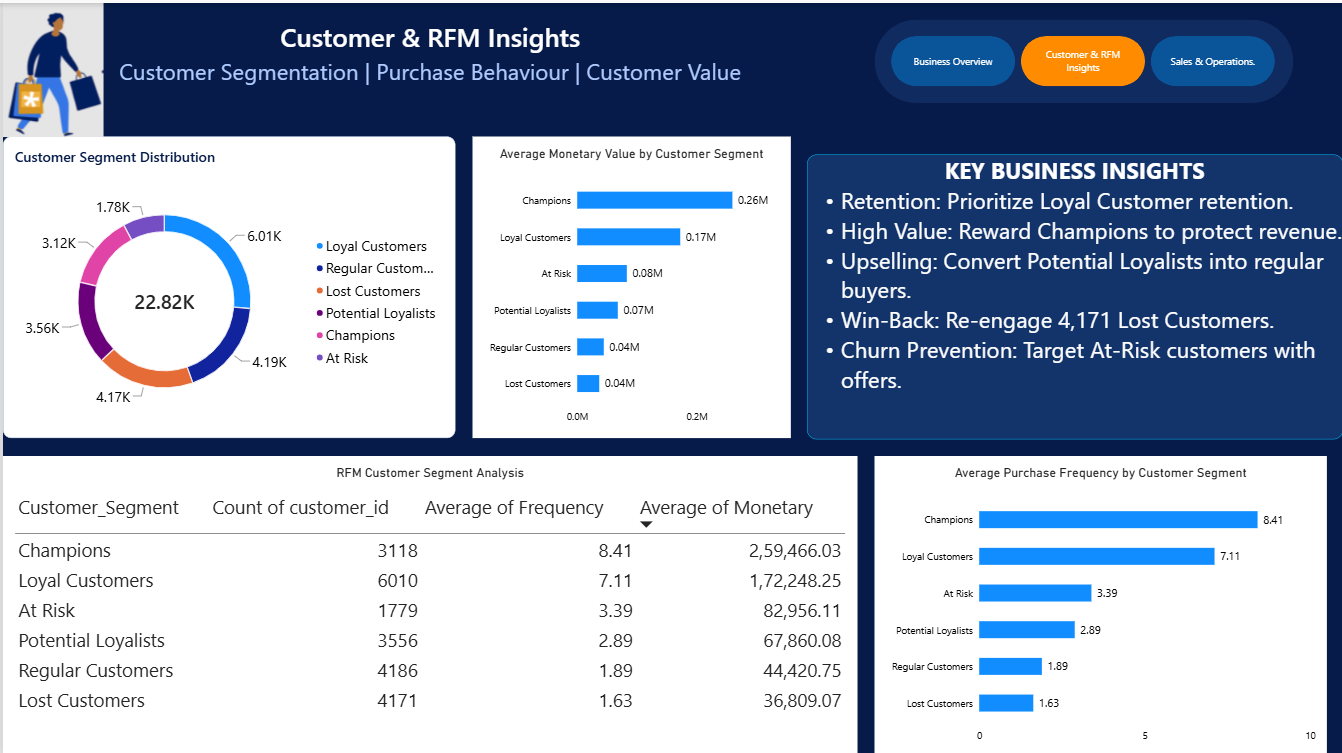

The page's visual inventory and layout, read from the dashboard file:
{"tool":"powerbi","page":{"name":"Customer & RFM Insights","canvas":[1920,1080],"ordinal":1},"visuals":[{"type":"donutChart","title":"Customer Segment Distribution","fields":{"Category":["rfm_customer_analysis.Customer_Segment"],"Y":["Count(rfm_customer_analysis.customer_id)"]},"box":[0,192,648,432],"z":0},{"type":"tableEx","title":"RFM Customer Segment Analysis","fields":{"Values":["rfm_customer_analysis.Customer_Segment","rfm_customer_analysis.customer_id","Avg(rfm_customer_analysis.Frequency)","Avg(rfm_customer_analysis.Monetary)"]},"box":[0,648,1224,432],"z":1000},{"type":"clusteredBarChart","title":"Average Purchase Frequency by Customer Segment","fields":{"Category":["rfm_customer_analysis.Customer_Segment"],"Y":["Avg(rfm_customer_analysis.Frequency)"]},"box":[1248,648,648,432],"z":3001},{"type":"clusteredBarChart","title":"Average Monetary Value by Customer Segment","fields":{"Category":["rfm_customer_analysis.Customer_Segment"],"Y":["Avg(rfm_customer_analysis.Monetary)"]},"box":[672,192,456,432],"z":3002},{"type":"textbox","box":[1152,216,768,408],"z":3003},{"type":"textbox","title":"Customer & RFM Insights","box":[144,24,936,144],"z":3004},{"type":"shape","box":[1248,24,600,120],"z":3005,"group":"g1"},{"type":"pageNavigator","box":[1272,48,552,72],"z":3006,"group":"g1"},{"type":"group","id":"g1","title":"Group 1","box":[1248,24,600,120],"z":3007},{"type":"image","box":[0,0,144,192],"z":3009}]}

Visuals, with their boxes in screenshot pixels (x1, y1, x2, y2), scaled from the page's 1920x1080 canvas onto the 1342x753 screenshot:
"Customer Segment Distribution" donutChart: (0,134,453,435)
"RFM Customer Segment Analysis" tableEx: (0,452,856,752)
"Average Purchase Frequency by Customer Segment" clusteredBarChart: (872,452,1325,752)
"Average Monetary Value by Customer Segment" clusteredBarChart: (470,134,788,435)
textbox: (805,151,1341,435)
"Customer & RFM Insights" textbox: (101,17,755,117)
shape: (872,17,1292,100)
pageNavigator: (889,33,1275,84)
"Group 1" group: (872,17,1292,100)
image: (0,0,101,134)
